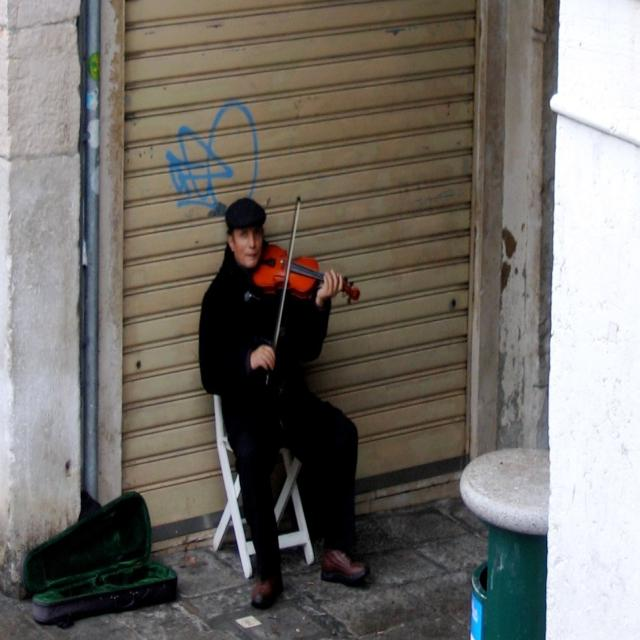violin: (252, 237, 363, 308)
